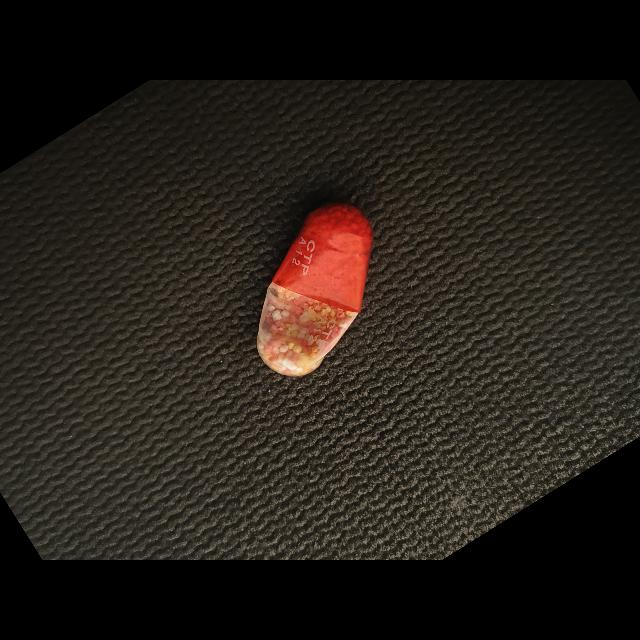Defective Capsule: (257, 203, 373, 377)
